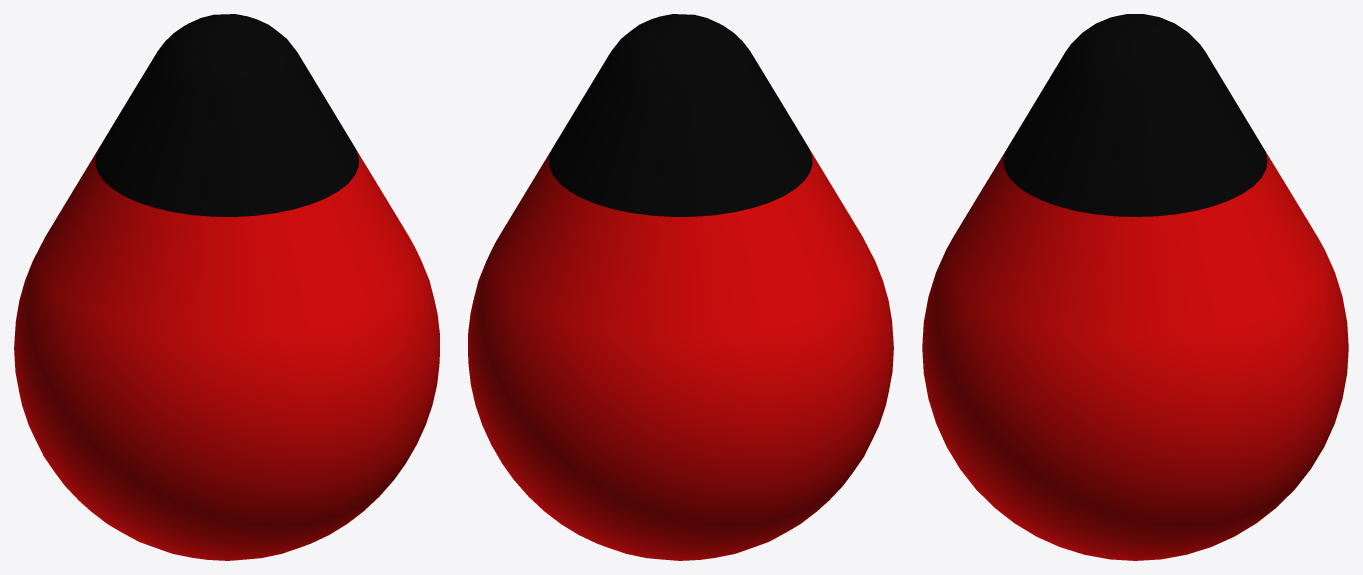
The model's file is A-2-Red.dae.
3 views of the same model, side by side, from view 1: azimuth 30°, elevation 25°; view 2: azimuth 150°, elevation 25°; view 3: azimuth 270°, elevation 25° (orthographic).
Parts seen in each view (by area): view 1: A-2-Red; view 2: A-2-Red; view 3: A-2-Red.
Part boxes in pixels (x1=…): A-2-Red: x1=14, y1=14, x2=439, y2=560; A-2-Red: x1=468, y1=14, x2=893, y2=560; A-2-Red: x1=922, y1=14, x2=1348, y2=560.
Bounding box in the file's own units: 14.49 × 14.5 × 19.47.
